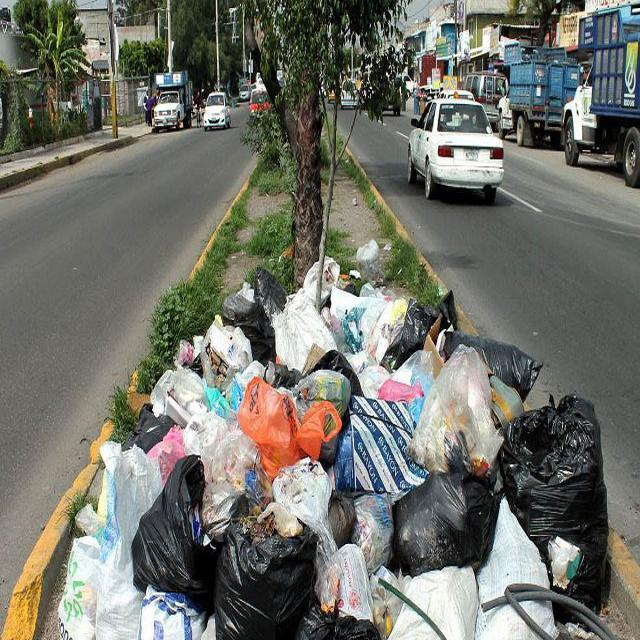garbage: (47, 236, 609, 640)
